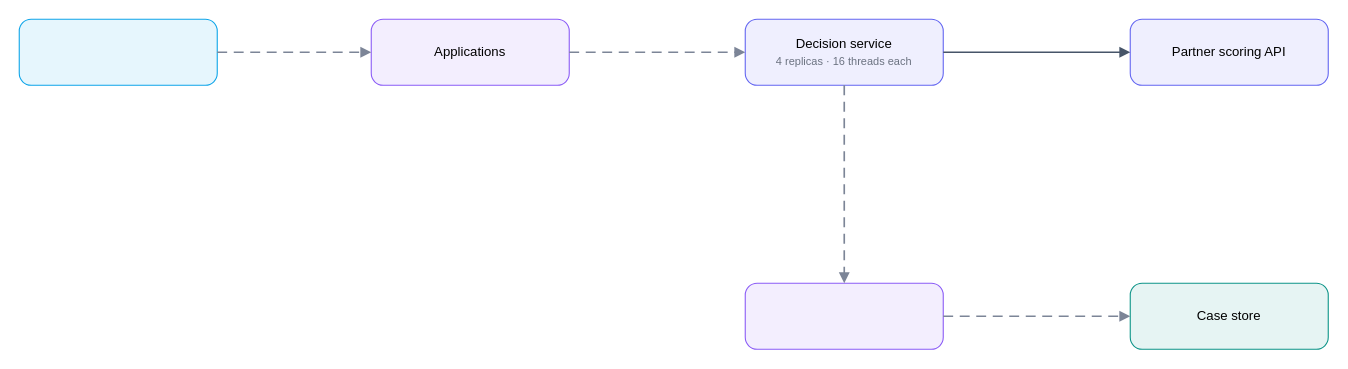
Image size: 1348x369. Some labels were removed from this diagram. The box of each missing label's shape, as (x1, y1, x2, y2) in pixels:
Applications submitted: (18, 18, 217, 85)
Decisions: (744, 282, 943, 349)
